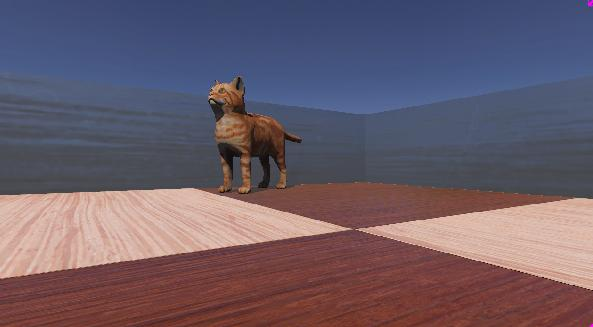Cat: (195, 70, 322, 201)
